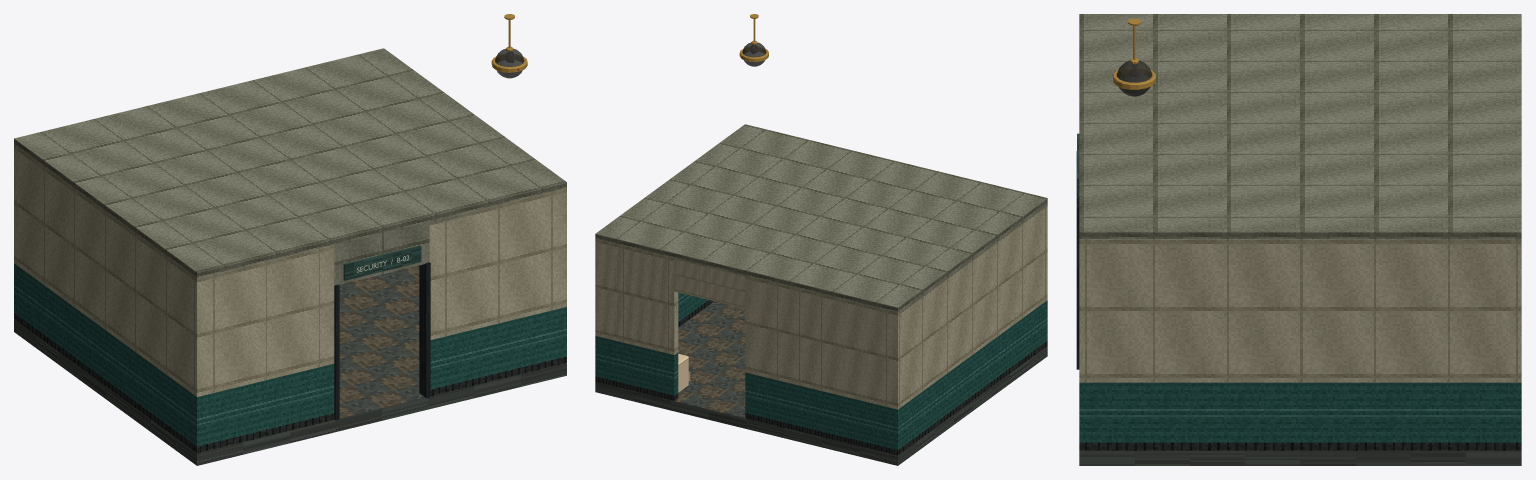
File: security.glb
3 views of the same model, side by side, from view 1: azimuth 30°, elevation 25°; view 2: azimuth 150°, elevation 25°; view 3: azimuth 270°, elevation 25° (orthographic). The views are drawn at different scales.
Visible parts, largest first — view 1: Suspended ceiling-col, West wall-col.003, South left-col.003, South right-col.003, West wall-col.001, Subfloor-col, South left-col.001, South right-col.001, Door header-col, Door frame-col.001, Security enamel plaque, West wall-col (+5 smaller); view 2: Suspended ceiling-col, North return-col.006, West wall-col.003, North return-col.007, North return-col.002, West wall-col.001, Subfloor-col, North return-col.003, North lintel-col, North return-col, West wall-col, North return-col.001 (+2 smaller); view 3: Suspended ceiling-col, East wall-col.003, East wall-col.001, Subfloor-col, East wall-col, North return-col.007, South right-col.003, East wall-col.002, dome-acrylic, dome-body, South right-col.001, North return-col.003 (+1 smaller).
Part boxes in pixels (<box>): Suspended ceiling-col: <box>14,48,566,280</box>; West wall-col.003: <box>19,148,192,393</box>; South left-col.003: <box>192,245,334,396</box>; South right-col.003: <box>429,188,566,339</box>; West wall-col.001: <box>19,268,192,442</box>; Subfloor-col: <box>14,320,566,465</box>; South left-col.001: <box>192,364,334,446</box>; South right-col.001: <box>430,308,566,389</box>; Door header-col: <box>334,221,429,285</box>; Door frame-col.001: <box>419,262,430,398</box>; Security enamel plaque: <box>343,245,421,280</box>; West wall-col: <box>19,316,192,449</box>; Suspended ceiling-col: <box>595,124,1047,313</box>; North return-col.006: <box>745,275,901,409</box>; West wall-col.003: <box>902,208,1043,406</box>; North return-col.007: <box>595,238,678,354</box>; North return-col.002: <box>745,373,901,449</box>; West wall-col.001: <box>902,304,1043,446</box>; Subfloor-col: <box>595,346,1047,465</box>; North return-col.003: <box>595,336,678,395</box>; North lintel-col: <box>674,258,745,308</box>; North return-col: <box>745,413,901,455</box>; West wall-col: <box>902,344,1043,452</box>; North return-col.001: <box>595,376,678,400</box>; Suspended ceiling-col: <box>1079,14,1521,242</box>; East wall-col.003: <box>1091,239,1509,382</box>; East wall-col.001: <box>1091,383,1509,442</box>; Subfloor-col: <box>1079,451,1521,465</box>; East wall-col: <box>1091,442,1509,450</box>; North return-col.007: <box>1510,239,1521,382</box>; South right-col.003: <box>1079,239,1090,382</box>; East wall-col.002: <box>1091,382,1509,384</box>; dome-acrylic: <box>1116,60,1152,96</box>; dome-body: <box>1113,18,1155,89</box>; South right-col.001: <box>1079,383,1090,442</box>; North return-col.003: <box>1510,383,1521,442</box>.
Bounding box in the file's own units: 7 × 6.35 × 6.04.
23 materials, 11 textured.
